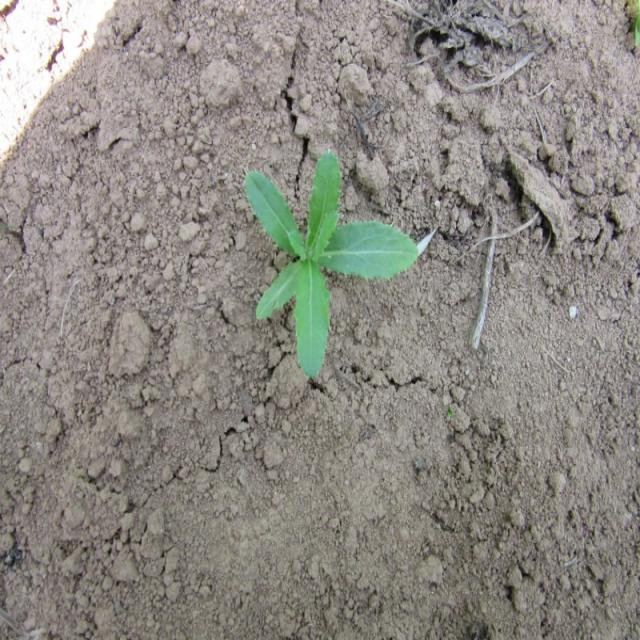field_thistle: (212, 121, 426, 371)
